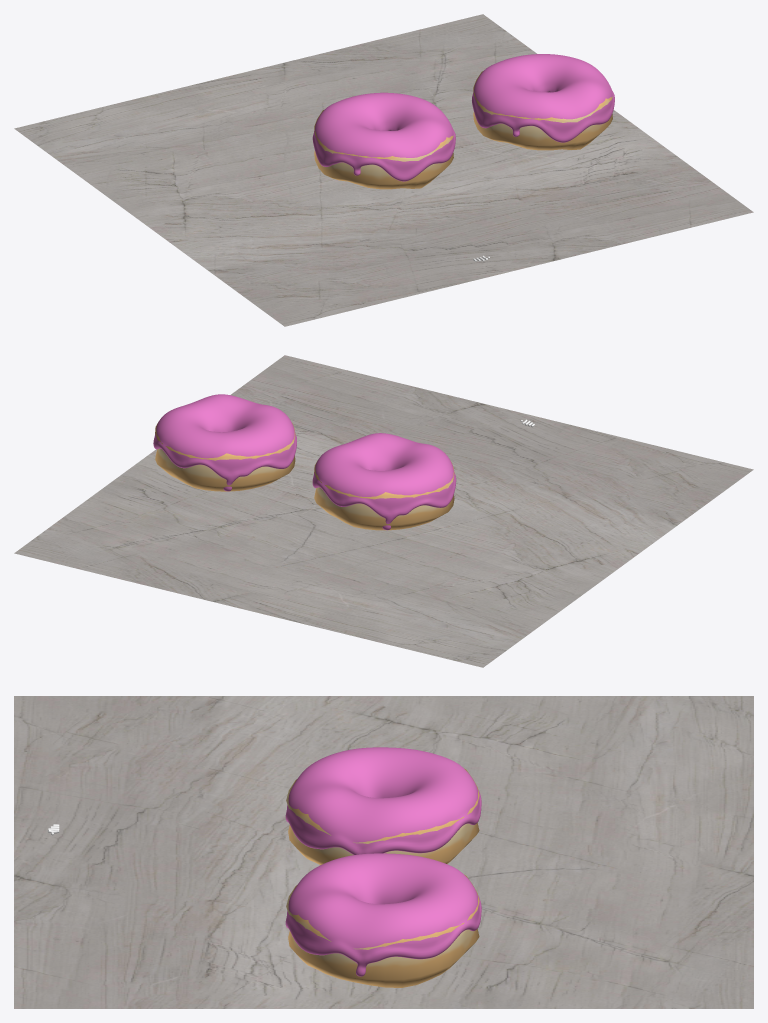
The model's file is donut.gltf.
The picture shows the model from 3 angles, top to bottom: view 1: azimuth 30°, elevation 25°; view 2: azimuth 150°, elevation 25°; view 3: azimuth 270°, elevation 25°; orthographic projection. The views are drawn at different scales.
Parts seen in each view (by area): view 1: Plane, Icing.001, Icing, Donut, Donut.001; view 2: Plane, Icing.001, Icing, Donut, Donut.001; view 3: Plane, Icing.001, Icing, Donut.001, Donut.
Boxes of the visible parts, x1=… form: Plane: x1=14, y1=14, x2=753, y2=326; Icing.001: x1=472, y1=54, x2=614, y2=142; Icing: x1=312, y1=92, x2=455, y2=181; Donut: x1=314, y1=110, x2=453, y2=189; Donut.001: x1=473, y1=71, x2=612, y2=150; Plane: x1=14, y1=355, x2=753, y2=667; Icing.001: x1=153, y1=394, x2=296, y2=491; Icing: x1=312, y1=433, x2=456, y2=530; Donut: x1=314, y1=460, x2=454, y2=530; Donut.001: x1=155, y1=423, x2=295, y2=491; Plane: x1=14, y1=696, x2=753, y2=1008; Icing.001: x1=285, y1=853, x2=481, y2=976; Icing: x1=285, y1=747, x2=481, y2=854; Donut.001: x1=286, y1=874, x2=479, y2=987; Donut: x1=286, y1=768, x2=479, y2=864.
Bounding box in the file's own units: 0.4695 × 0.0537 × 0.4695.
Materials: 4 (2 with a texture image).
